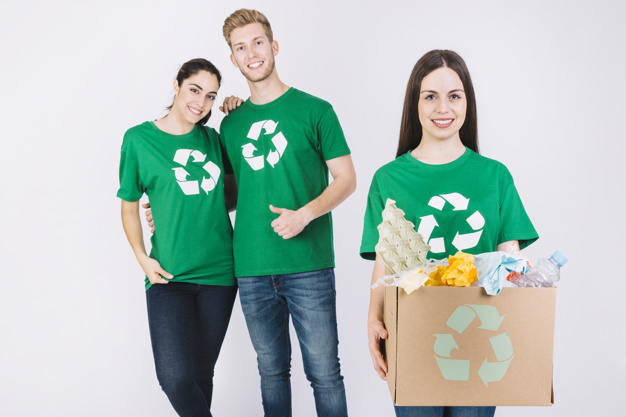thumbsup: (268, 205, 295, 239)
